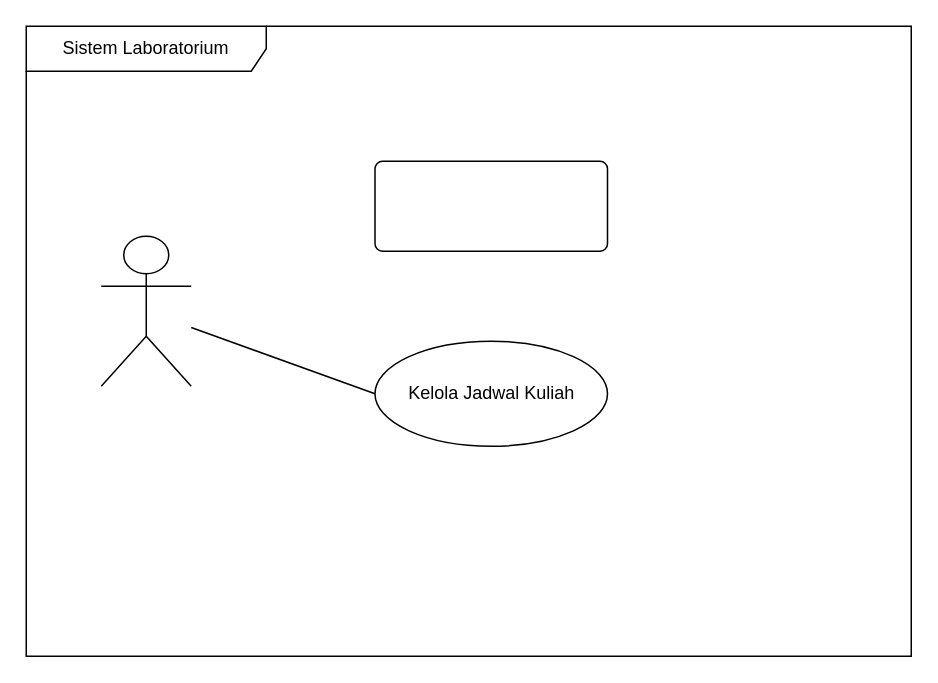
Image size: 938x683. Some labels were removed from this diagram. The shapes that lost their labels are listed below. From the top down, each one's box as (x1, y1, x2, y2) in pixels, then its label:
(374, 160, 608, 251): Lihat Jadwal Kuliah
(100, 235, 191, 386): Mahasiswa
